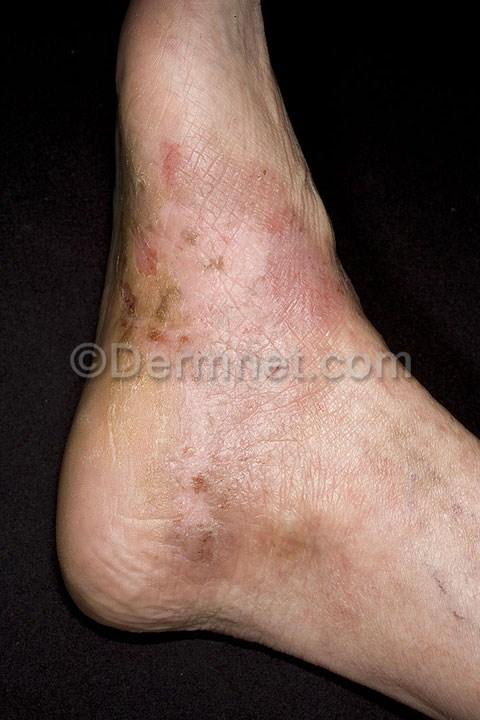Eczema: (152, 438, 319, 595), (246, 219, 353, 361), (102, 247, 215, 378), (129, 121, 253, 216)
